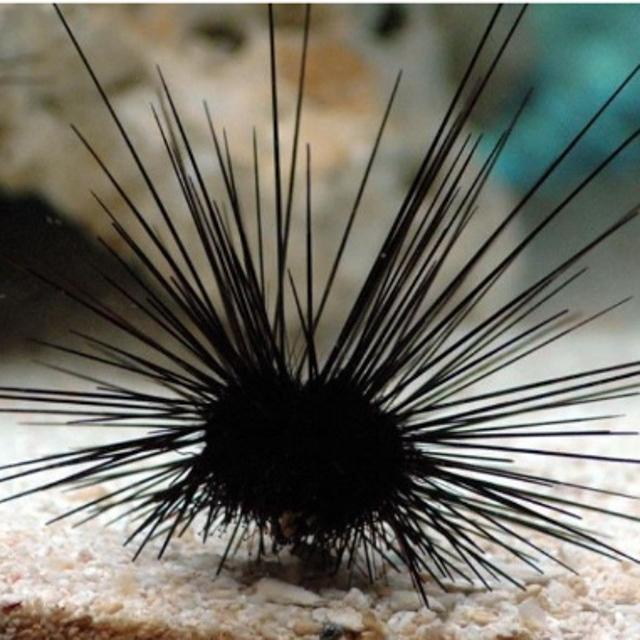Urchin: (18, 30, 625, 588)
